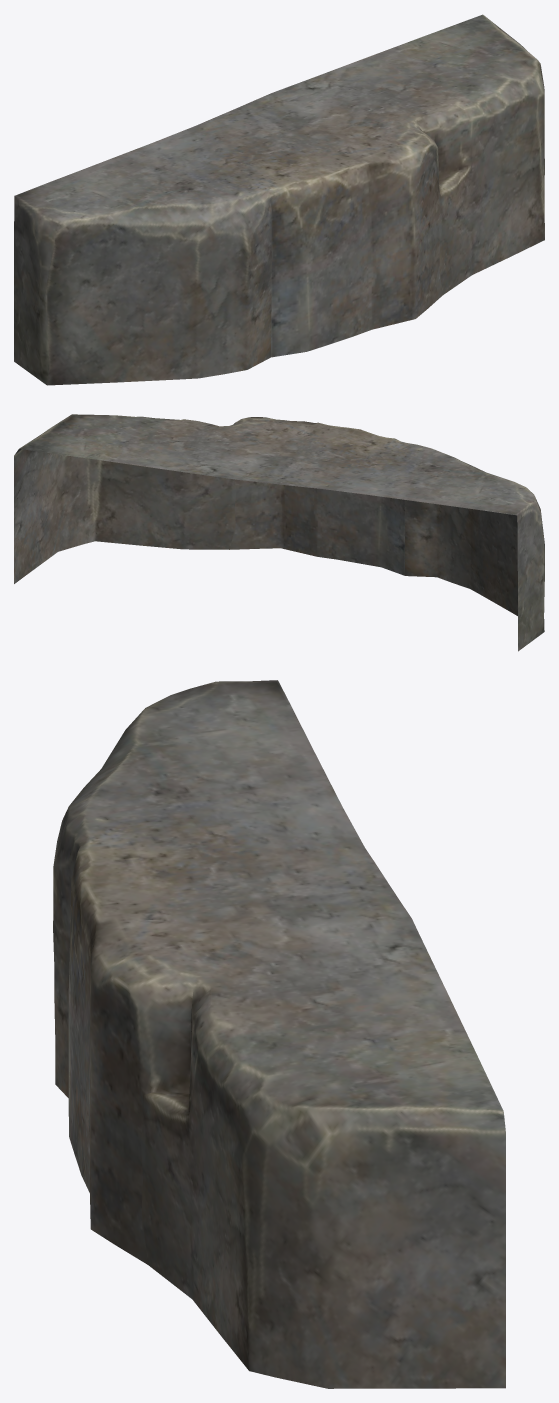
Rendered from Rock_B1.fbx.
The picture shows the model from 3 angles, top to bottom: view 1: azimuth 30°, elevation 25°; view 2: azimuth 150°, elevation 25°; view 3: azimuth 270°, elevation 25°; orthographic projection. The views are drawn at different scales.
Parts seen in each view (by area): view 1: Rock_B1__52_; view 2: Rock_B1__52_; view 3: Rock_B1__52_.
Part boxes in pixels (x1,y1,x2,y2): Rock_B1__52_: [14, 14, 544, 385]; Rock_B1__52_: [14, 414, 544, 651]; Rock_B1__52_: [53, 680, 505, 1388].
Bounding box in the file's own units: 1.67 × 0.4835 × 0.7261.
1 material, 1 textured.
